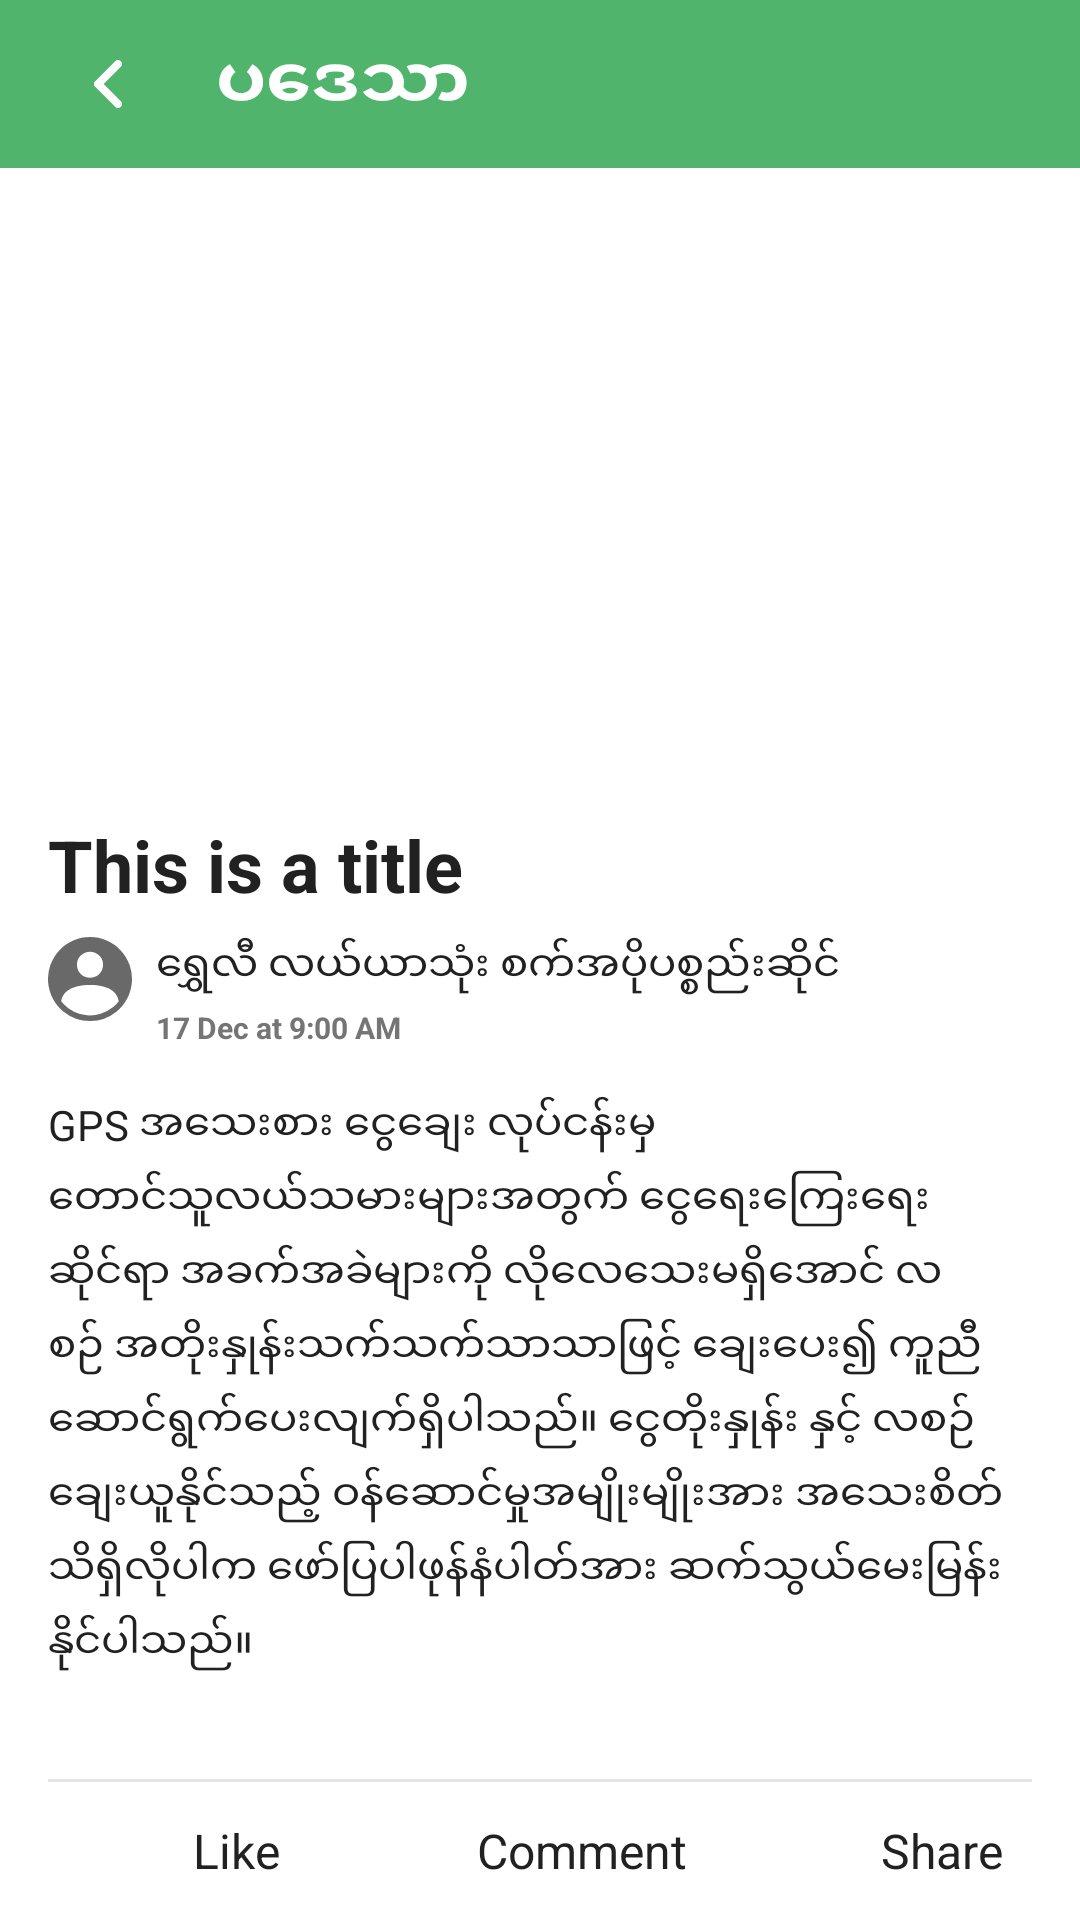

Icons on this 1080px×1920px Android screen, each with its box as (x1, y1, x2, y2):
back: (94, 60, 122, 108)
profile: (48, 937, 132, 1021)
